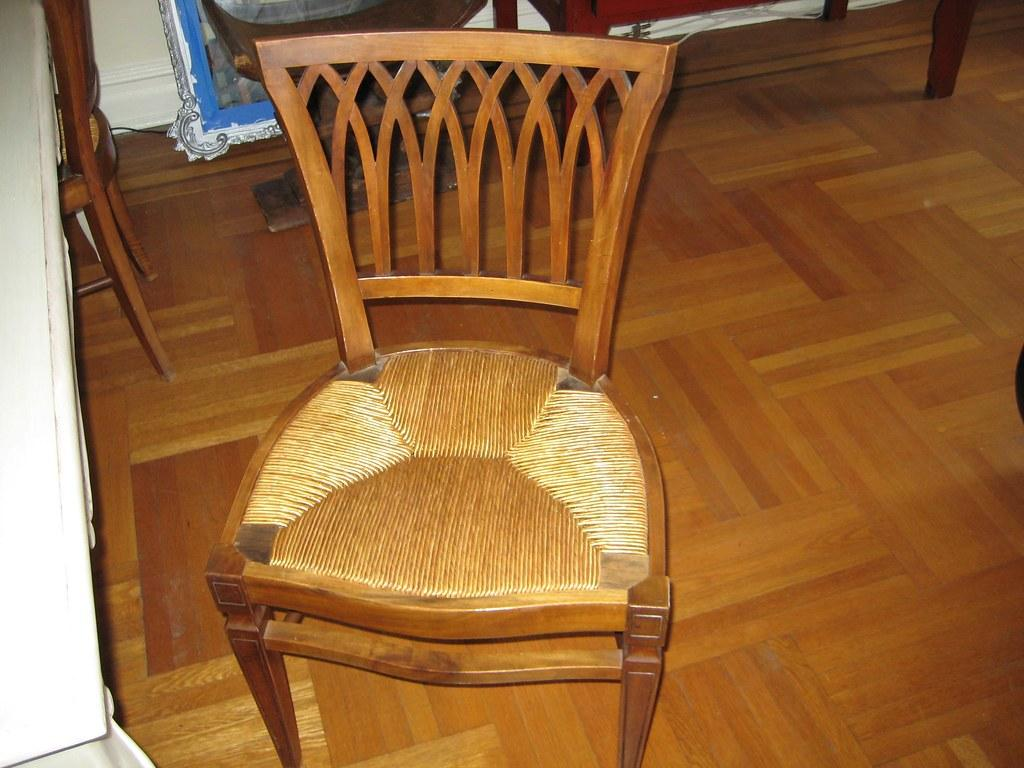chair: (203, 28, 680, 768), (42, 1, 177, 385)
